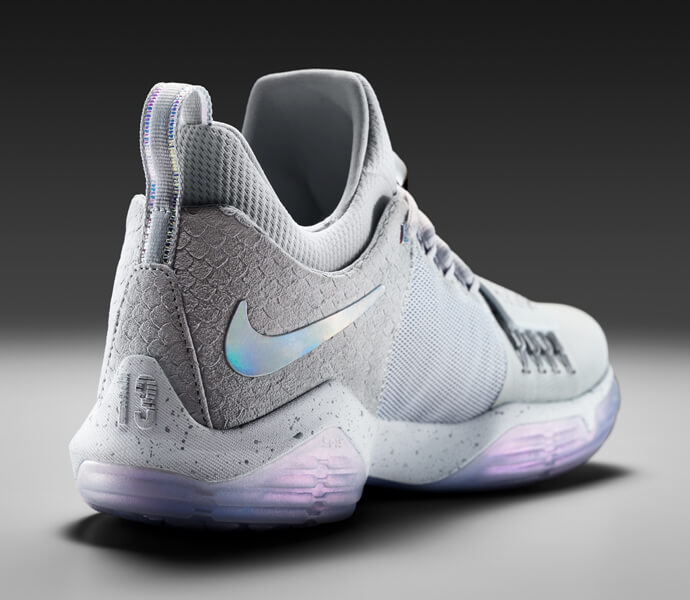nike: (216, 279, 393, 381)
